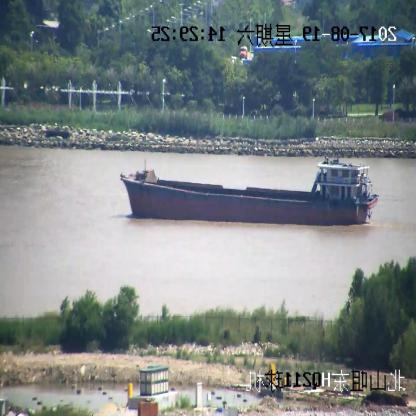Bulk Carrier: (120, 158, 380, 228)
